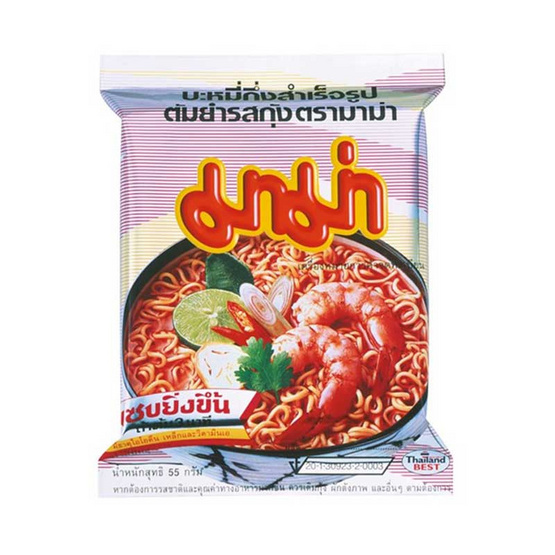Snack: (74, 46, 463, 508)
